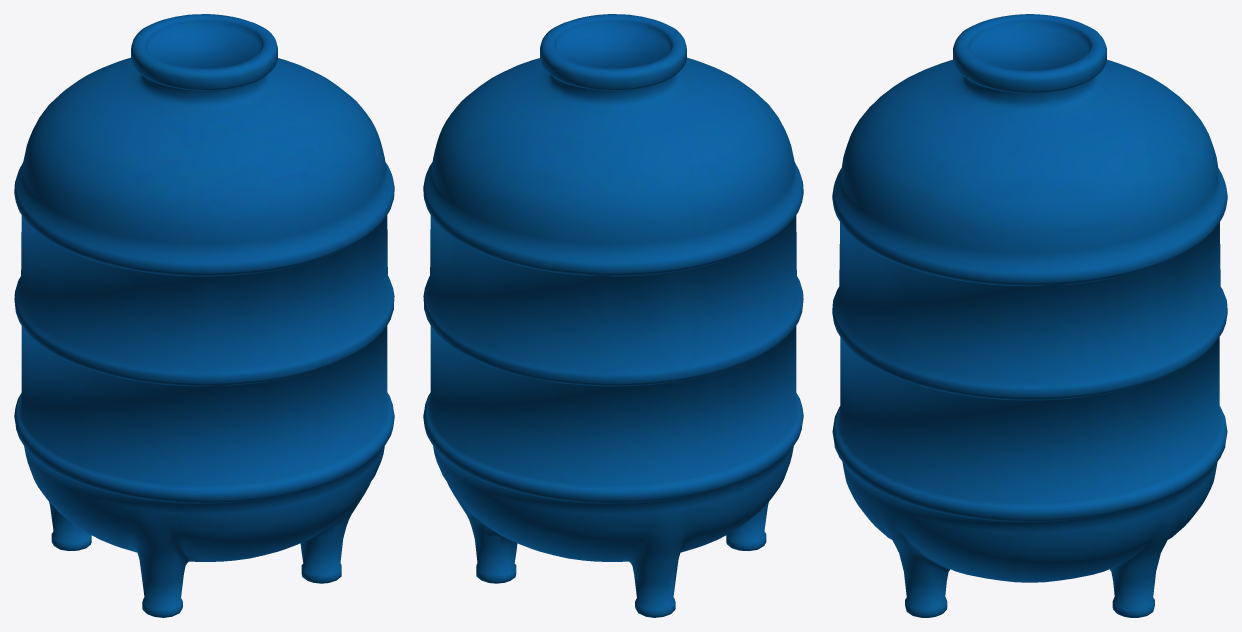
File: water_tank_c27c18f7_v2.glb
The picture shows the model from 3 angles, left to right: view 1: azimuth 30°, elevation 25°; view 2: azimuth 150°, elevation 25°; view 3: azimuth 270°, elevation 25°; orthographic projection. The views are drawn at different scales.
Parts seen in each view (by area): view 1: material; view 2: material; view 3: material.
Boxes of the visible parts, x1,y1,x2,y2 form: material: (14,14,394,617); material: (423,14,803,617); material: (832,14,1227,617).
Size of the model in its own units: 1.28 by 1.9 by 1.28.
1 material, 1 textured.
